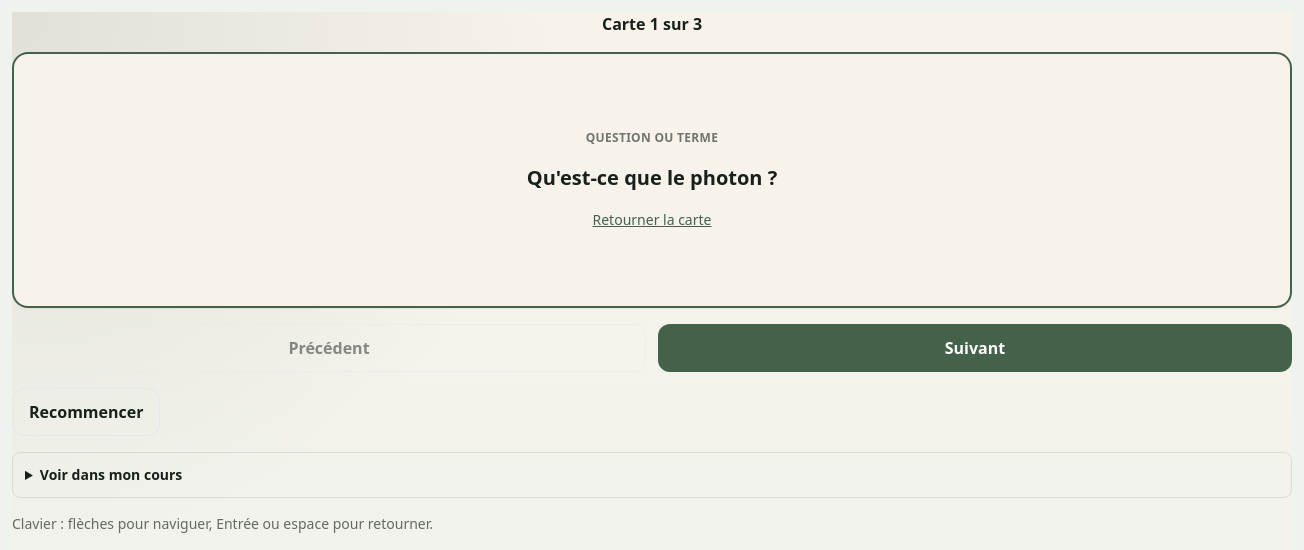
Test: FlashcardDeck › revient à la carte précédente
This screenshot has width=1304, height=550.
Click the button "Suivant".
click(975, 348)  # box [658, 324, 1292, 372]
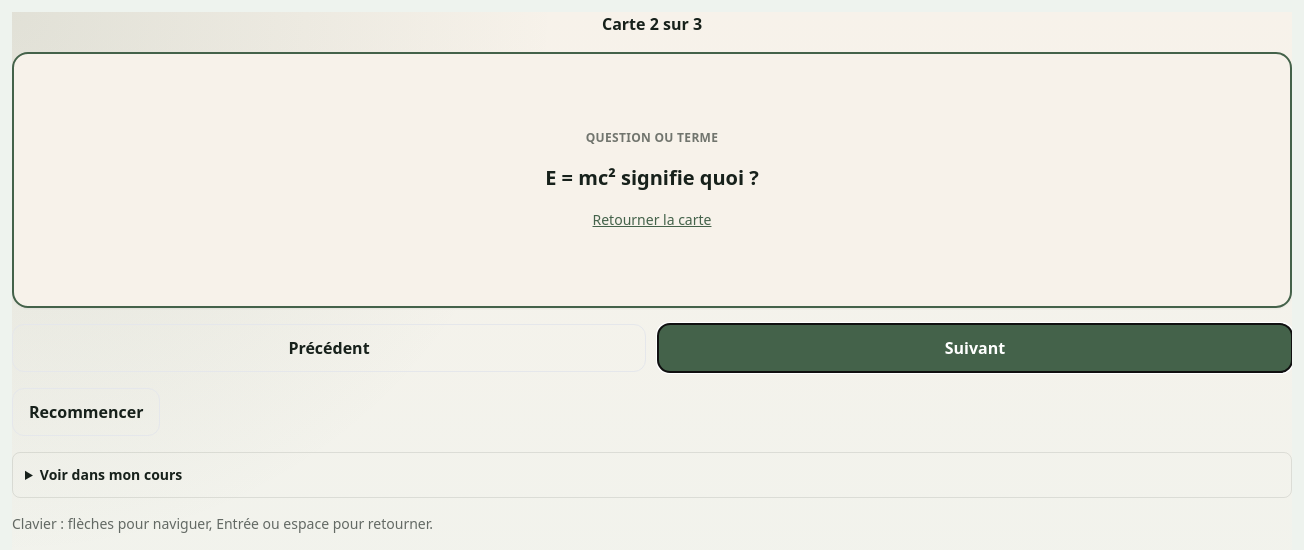
Click the button "Précédent".
click(329, 348)  # box [12, 324, 646, 372]
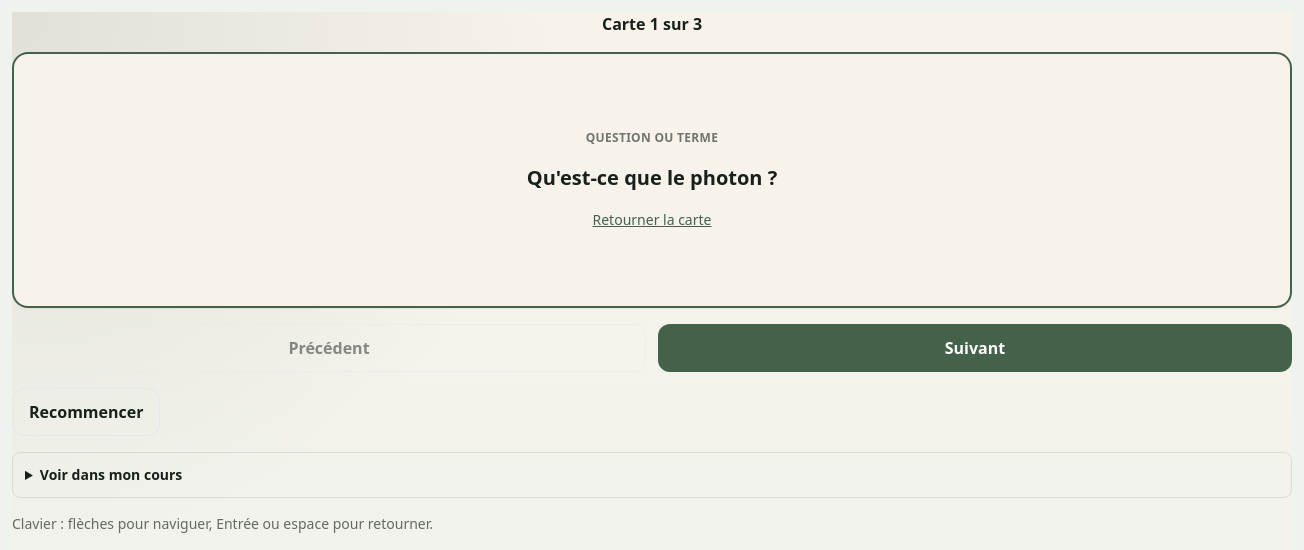
Check: the text "Carte 1 sur 3" is shown, box [602, 13, 702, 35]
